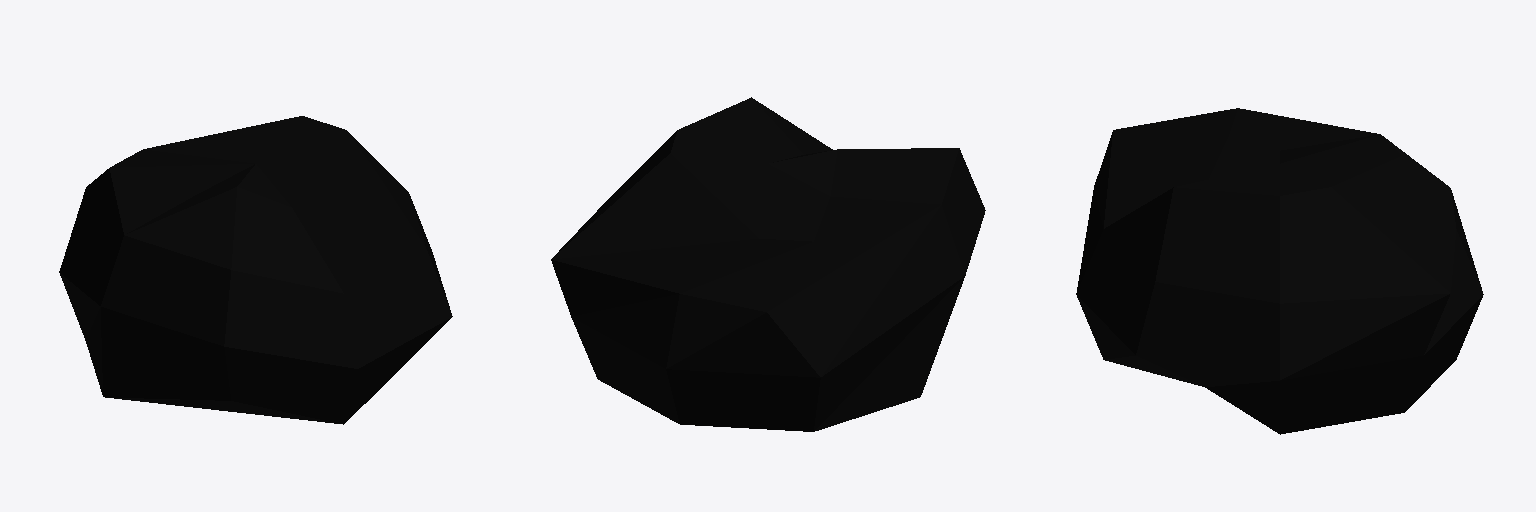
File: Single_Stone_A.obj
The picture shows the model from 3 angles: view 1: azimuth 30°, elevation 25°; view 2: azimuth 150°, elevation 25°; view 3: azimuth 270°, elevation 25°; orthographic projection.
Visible parts, largest first — view 1: Single_Stone_A; view 2: Single_Stone_A; view 3: Single_Stone_A.
Part boxes in pixels (x1,y1,x2,y2): Single_Stone_A: (59, 116, 452, 424); Single_Stone_A: (551, 97, 985, 431); Single_Stone_A: (1076, 108, 1483, 434).
Size of the model in its own units: 2.54 by 1.43 by 2.54.